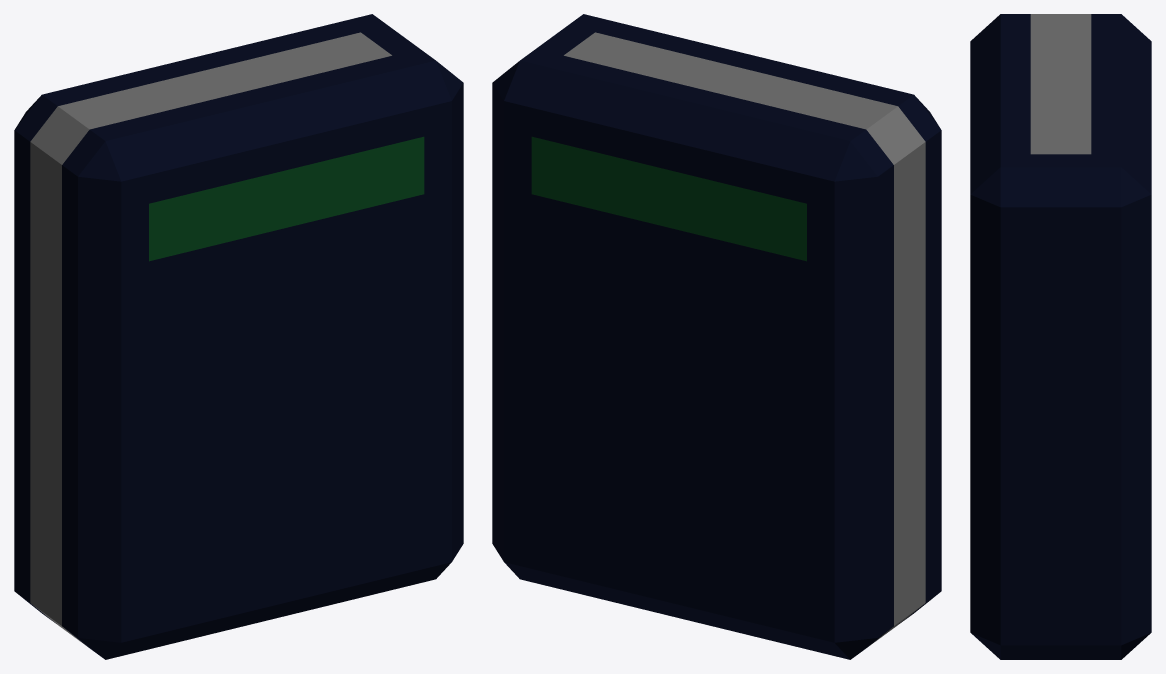
File: Book2.fbx
3 renders of one model, left to right at view 1: azimuth 30°, elevation 25°; view 2: azimuth 150°, elevation 25°; view 3: azimuth 270°, elevation 25°, orthographic. The views are drawn at different scales.
Parts seen in each view (by area): view 1: Book2; view 2: Book2; view 3: Book2.
Part boxes in pixels (left/top/right/bottom): Book2: left=14, top=14, right=463, bottom=659; Book2: left=492, top=14, right=941, bottom=659; Book2: left=970, top=14, right=1151, bottom=659.
Bounding box in the file's own units: 70 × 90 × 30.
